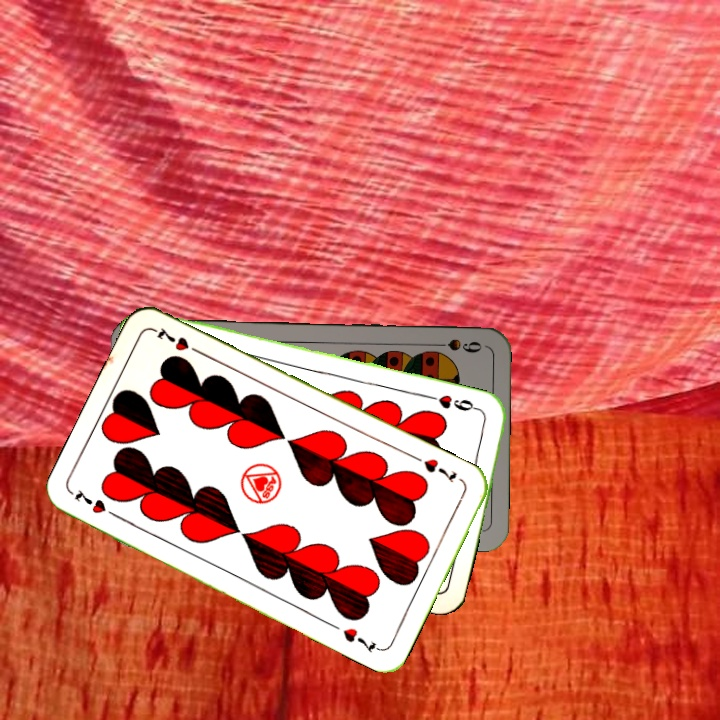H7: (70, 485, 124, 522), (410, 452, 460, 486)
H9: (426, 390, 485, 415)
S9: (426, 334, 485, 356)
